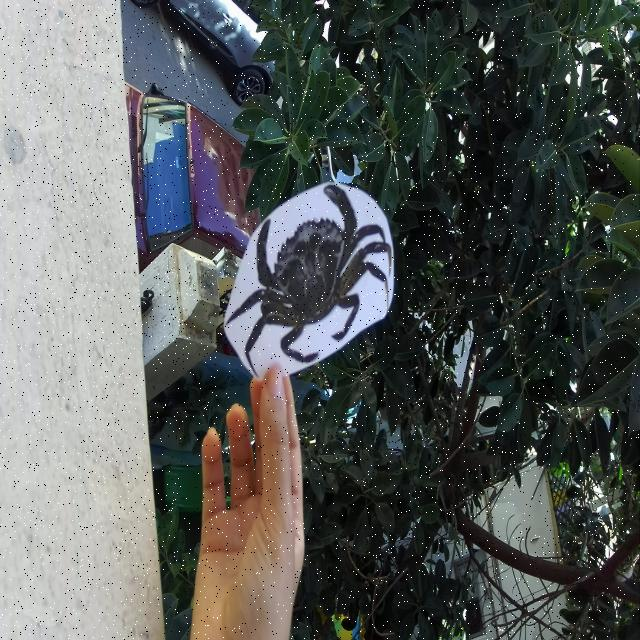European_Green_Crab: (210, 150, 403, 410)
